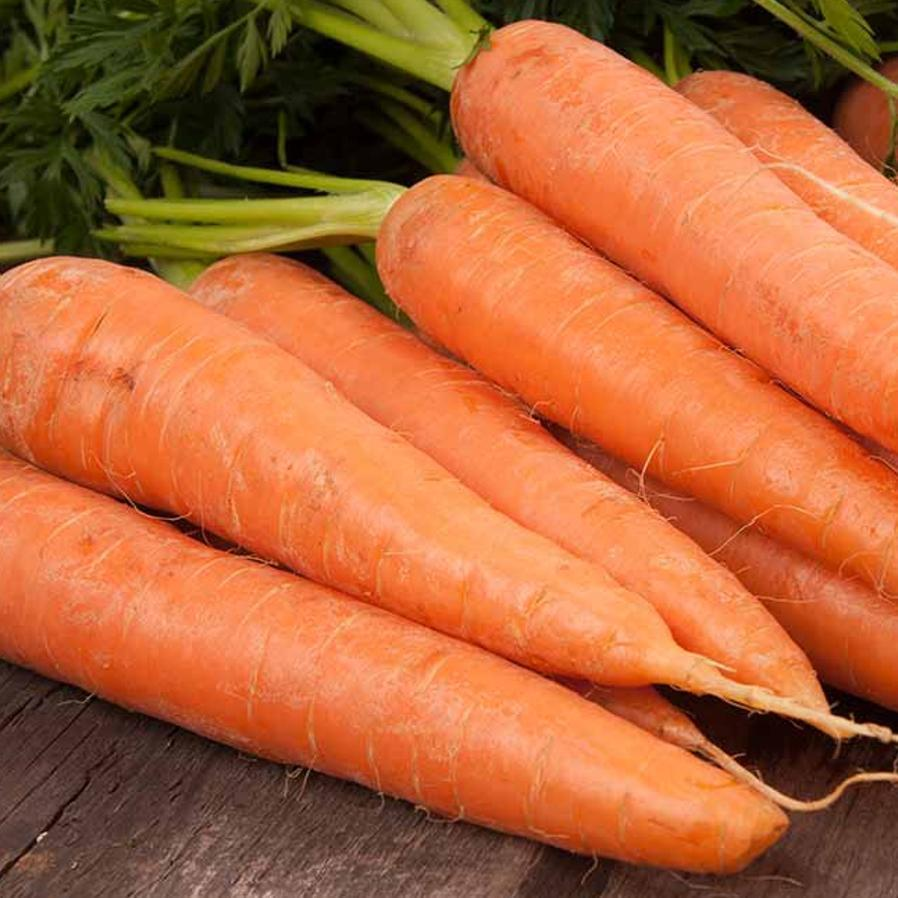carrot: (0, 0, 898, 825), (0, 259, 898, 870), (409, 14, 898, 819)
